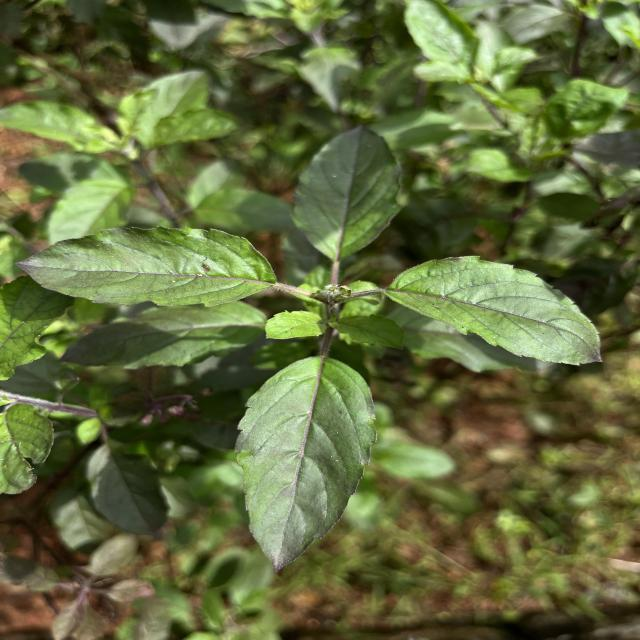Ocimum tenuiflorum: (231, 353, 378, 576), (379, 250, 606, 370), (10, 222, 278, 310)
